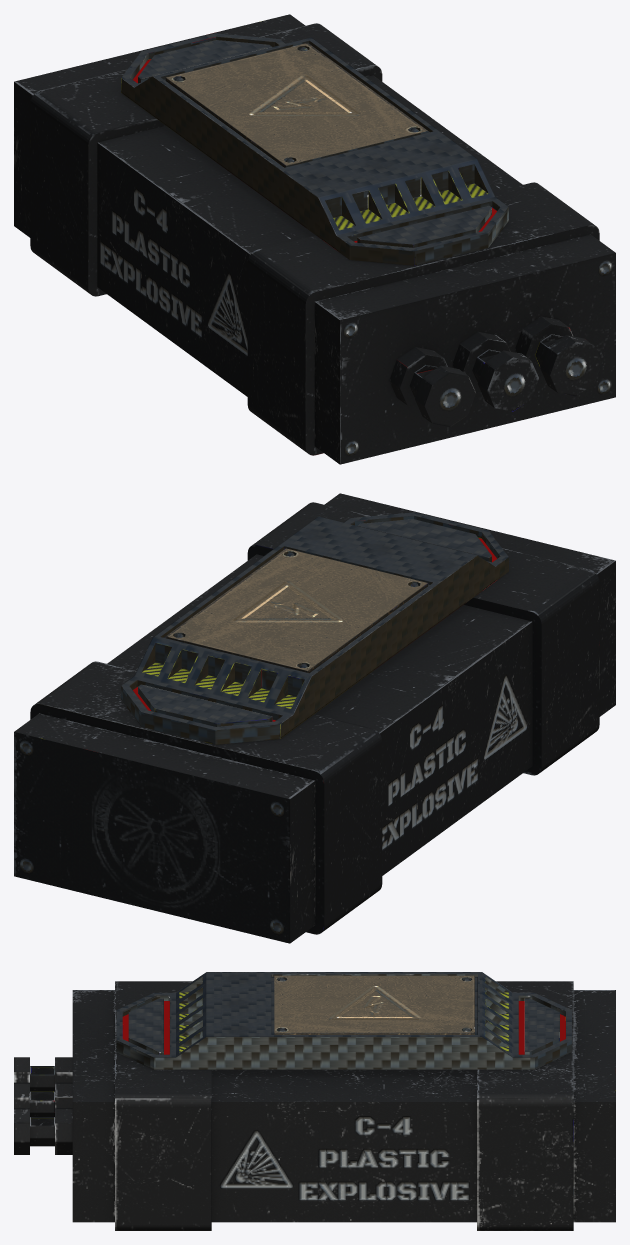
Rendered from bomb.gltf.
The picture shows the model from 3 angles, top to bottom: view 1: azimuth 30°, elevation 25°; view 2: azimuth 150°, elevation 25°; view 3: azimuth 270°, elevation 25°; orthographic projection. The views are drawn at different scales.
Visible parts, largest first — view 1: bomb; view 2: bomb; view 3: bomb.
Boxes of the visible parts, left/top/right/bottom form: bomb: left=14, top=14, right=615, bottom=464; bomb: left=14, top=493, right=615, bottom=943; bomb: left=14, top=972, right=615, bottom=1230.
Size of the model in its own units: 9.37 by 6.23 by 19.95.
Materials: 1 (1 with a texture image).
